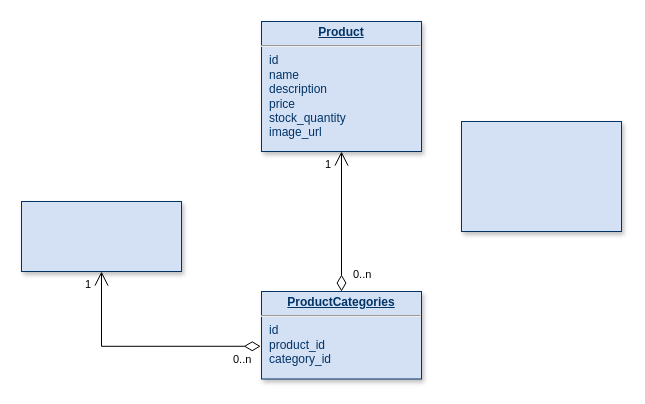
The diagram is 645 pixels wide and 404 high, and some of its shapes have lost their labels. Each missing label, with the centre of its shape:
"Category id name" goes at [102,237].
"Customer id name email phone address" goes at [542,177].
